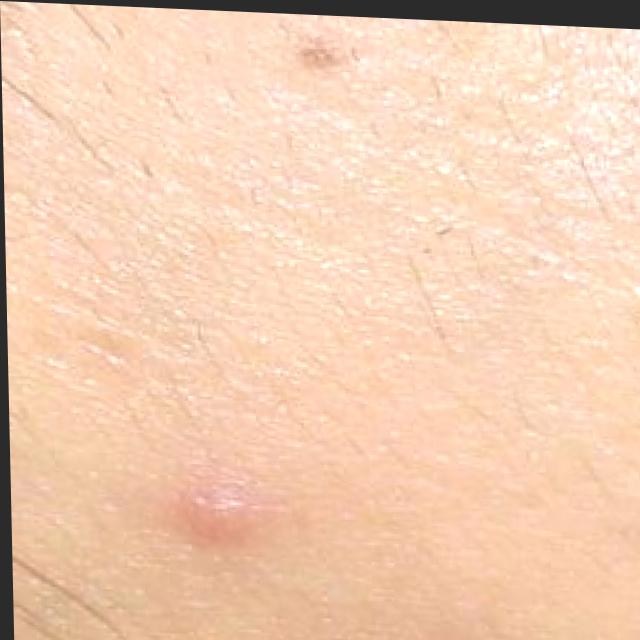blackheads: (161, 446, 287, 556)
